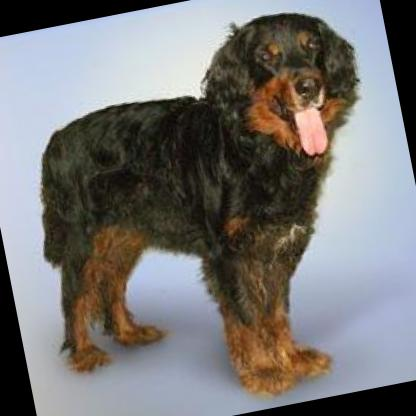Gordon_setter: (3, 0, 416, 416)
